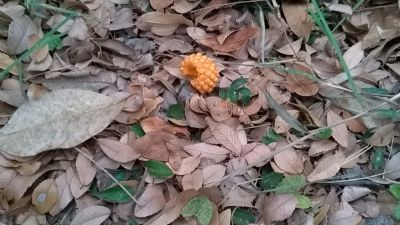eggs: (180, 52, 219, 95)
